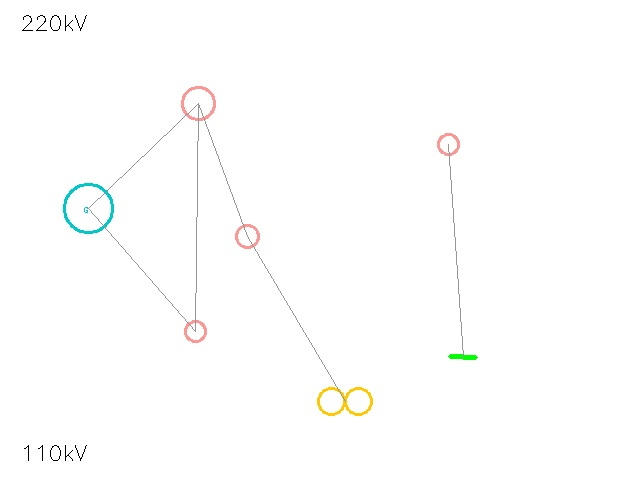busbar: (447, 341, 479, 373)
disconnect_switch: (224, 213, 270, 259)
generator: (64, 184, 112, 232)
load_break_switch: (427, 123, 469, 165), (174, 310, 216, 352)
transformer_2w: (312, 368, 378, 434)
voltage_transformer: (165, 70, 231, 136)
